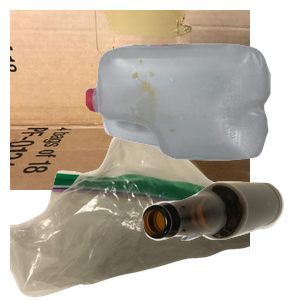cardboard: (10, 10, 250, 190)
glass: (140, 179, 300, 300)
plastic: (83, 41, 300, 194)
trash: (10, 134, 250, 300)
